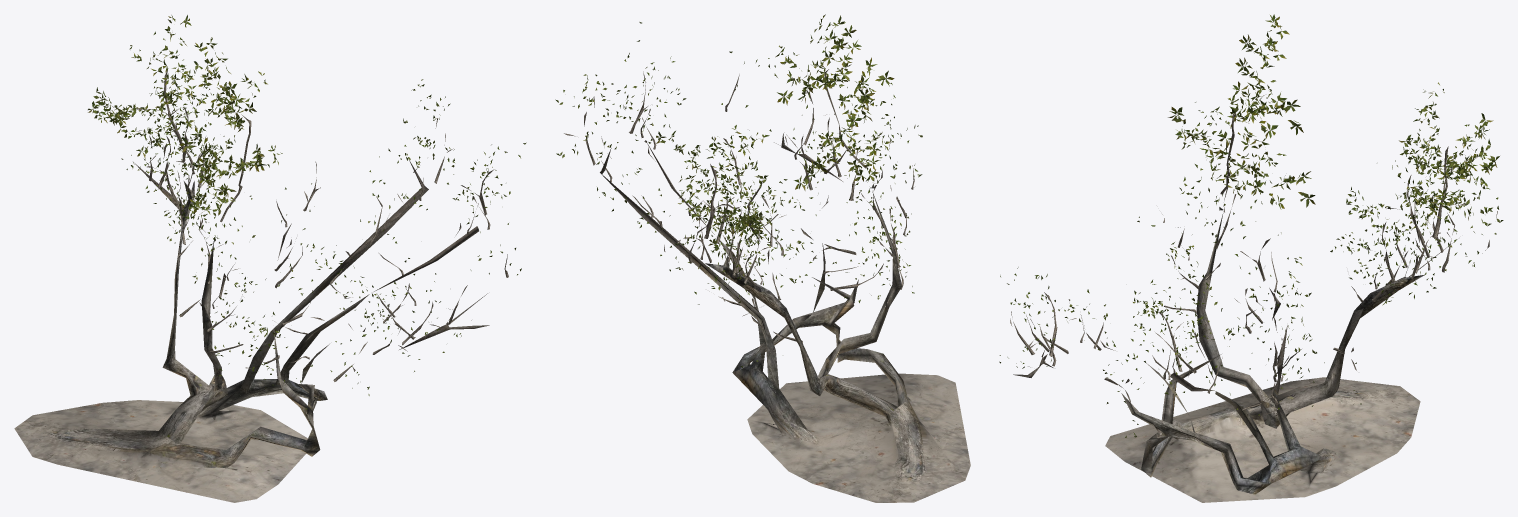
Rendered from island_tree_03.glb.
3 views of the same model, side by side, from view 1: azimuth 30°, elevation 25°; view 2: azimuth 150°, elevation 25°; view 3: azimuth 270°, elevation 25° (orthographic). The views are drawn at different scales.
Parts seen in each view (by area): view 1: island_tree_03_LOD0; view 2: island_tree_03_LOD0; view 3: island_tree_03_LOD0.
Boxes of the visible parts, x1,y1,x2,y2 form: island_tree_03_LOD0: (14,15,526,502); island_tree_03_LOD0: (555,14,970,502); island_tree_03_LOD0: (999,14,1503,502).
Size of the model in its own units: 2.83 by 2.61 by 2.69.
Materials: 3 (3 with a texture image).
